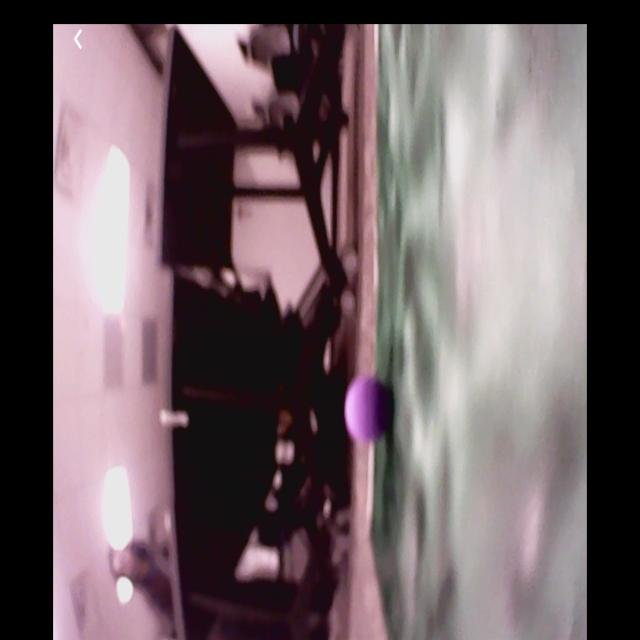ball: (342, 379, 391, 442)
